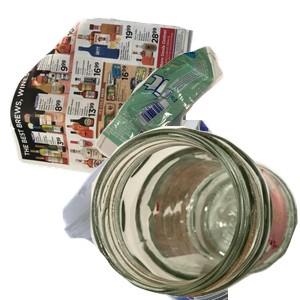glass: (90, 126, 300, 300)
paper: (10, 15, 196, 195)
plastic: (60, 120, 300, 300)
trash: (92, 44, 300, 211)
